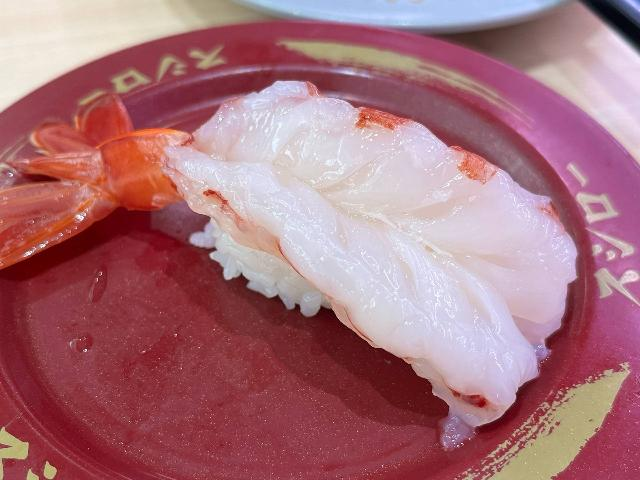janred: (19, 62, 627, 480)
janwhite: (246, 0, 569, 33)
